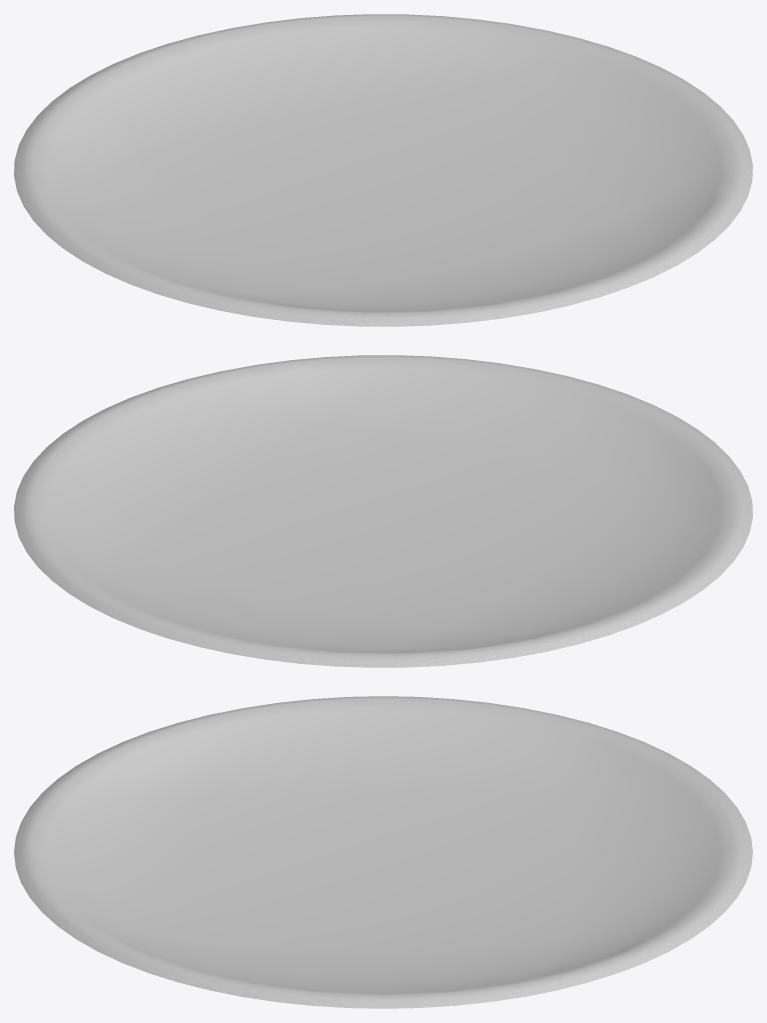
The model's file is Pratolimpo.glb.
3 renders of one model, top to bottom at view 1: azimuth 30°, elevation 25°; view 2: azimuth 150°, elevation 25°; view 3: azimuth 270°, elevation 25°, orthographic.
Parts seen in each view (by area): view 1: white_plate_clean_22; view 2: white_plate_clean_22; view 3: white_plate_clean_22.
Boxes of the visible parts, x1,y1,x2,y2 form: white_plate_clean_22: (14,14,752,326); white_plate_clean_22: (14,355,752,667); white_plate_clean_22: (14,696,752,1008).
Bounding box in the file's own units: 1.07 × 0.0615 × 1.07.
1 material, 1 textured.
